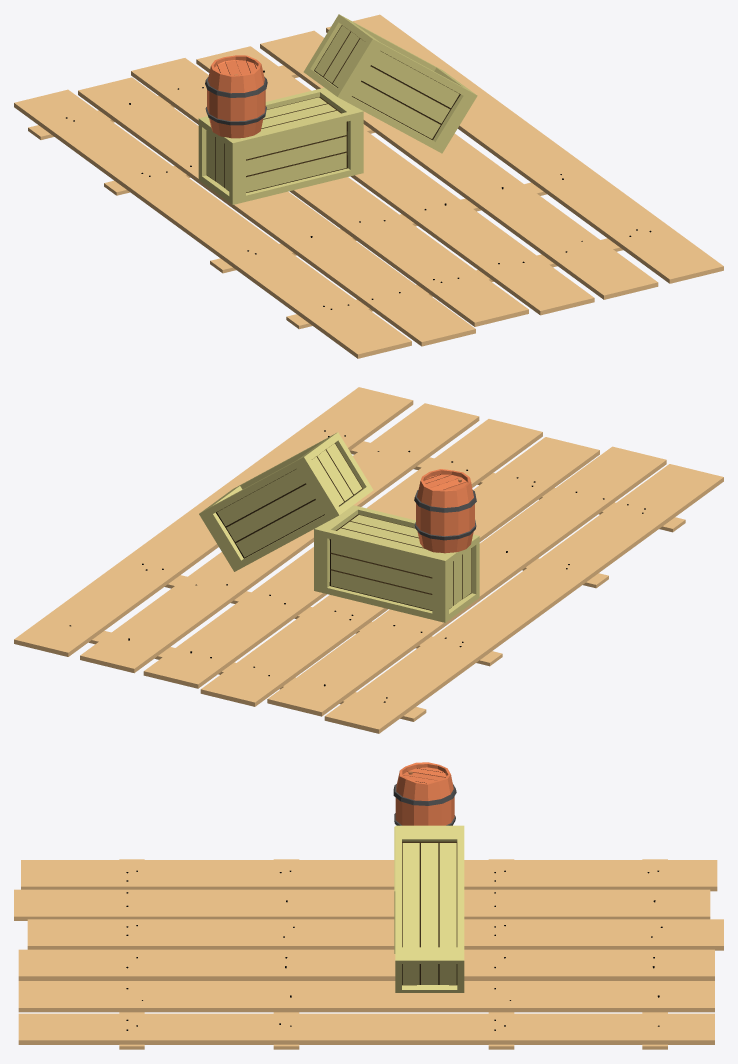
The model's file is Zattera.fbx.
3 renders of one model, top to bottom at view 1: azimuth 30°, elevation 25°; view 2: azimuth 150°, elevation 25°; view 3: azimuth 270°, elevation 25°, orthographic.
Visible parts, largest first — view 1: Cono.050, Cassa, Cassa-01, Barile; view 2: Cono.050, Cassa, Cassa-01, Barile; view 3: Cono.050, Cassa-01, Barile.
Boxes of the visible parts, <box> form: Cono.050: <box>14,14,723,358</box>; Cassa: <box>198,87,363,204</box>; Cassa-01: <box>303,14,477,153</box>; Barile: <box>205,55,267,138</box>; Cono.050: <box>14,387,723,733</box>; Cassa: <box>314,505,479,622</box>; Cassa-01: <box>199,432,373,571</box>; Barile: <box>414,469,476,553</box>; Cono.050: <box>14,859,723,1049</box>; Cassa-01: <box>395,825,464,992</box>; Barile: <box>393,762,456,825</box>.
Bounding box in the file's own units: 1282 × 459 × 2058.
